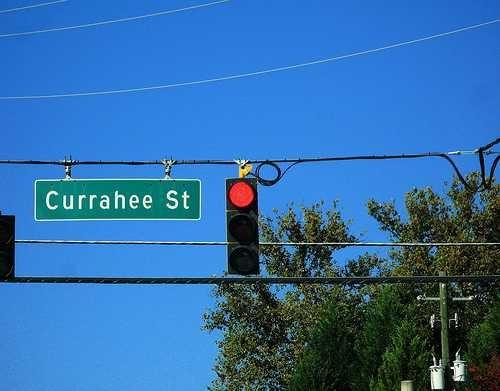red: (224, 176, 263, 279), (223, 176, 262, 211)
